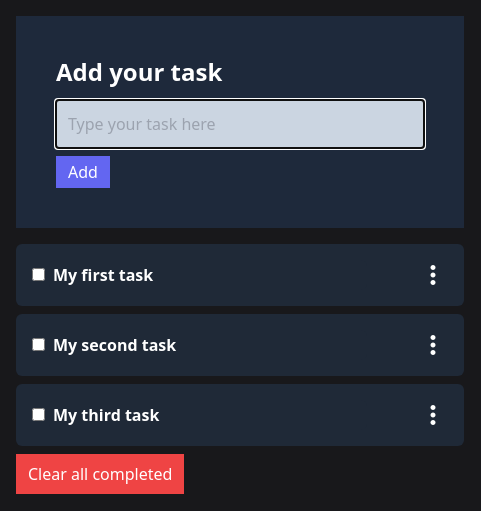
Scenario: TaskList, TaskForm and ButtonClear › should delete 3 tasks
This screenshot has width=481, height=511.
Click the 1st checkbox. click: (38, 274)
box: top-left (32, 268), bottom-right (45, 281)
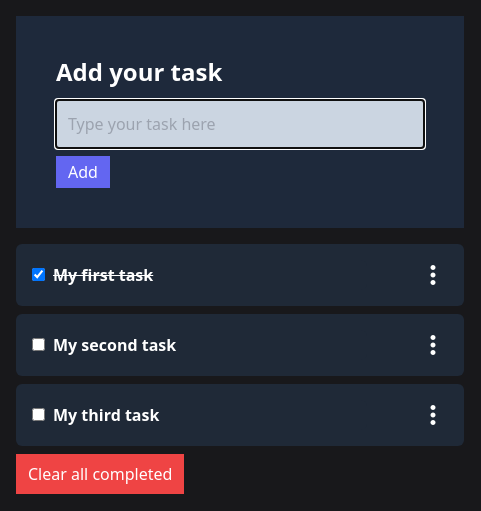
Click the 2nd checkbox. click: (38, 344)
box: top-left (32, 338), bottom-right (45, 351)
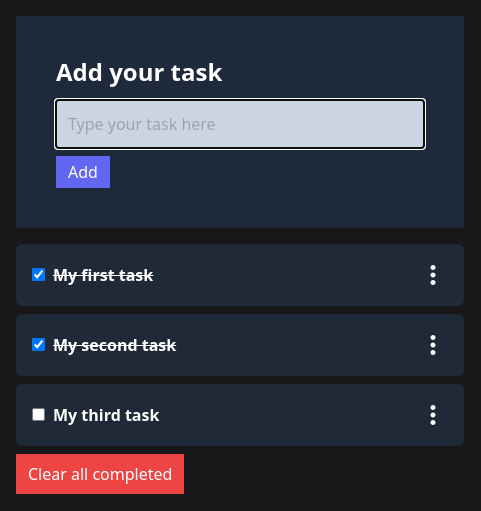
Click the 3rd checkbox. click: (38, 414)
box: top-left (32, 408), bottom-right (45, 421)
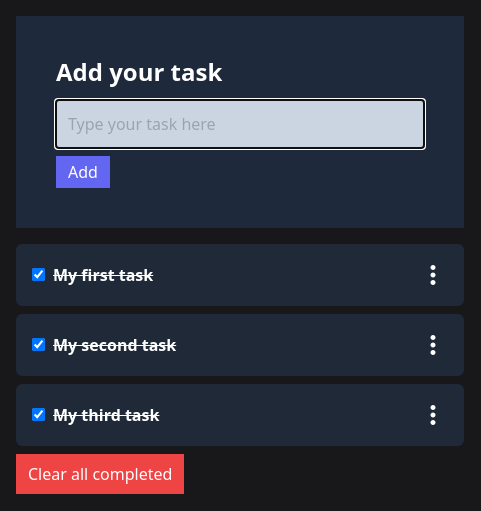
Click the button "Clear all completed". click: (100, 474)
box: top-left (16, 454), bottom-right (184, 494)
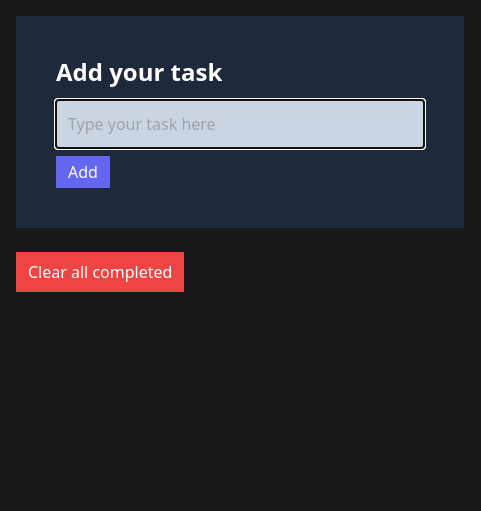
Expected: no fields labelled "task" are shown
